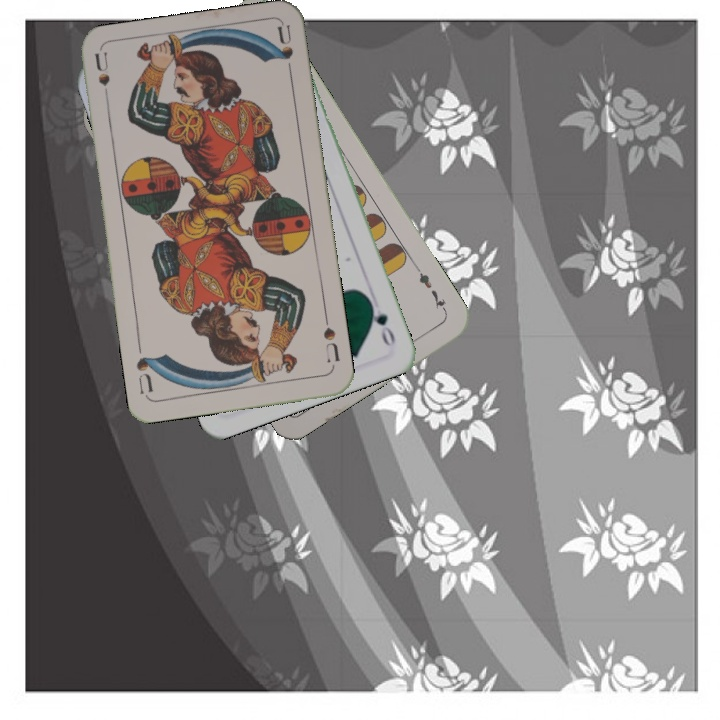E7: (412, 262, 450, 315)
GO: (364, 295, 398, 350)
SU: (90, 50, 113, 109), (319, 311, 343, 365)
